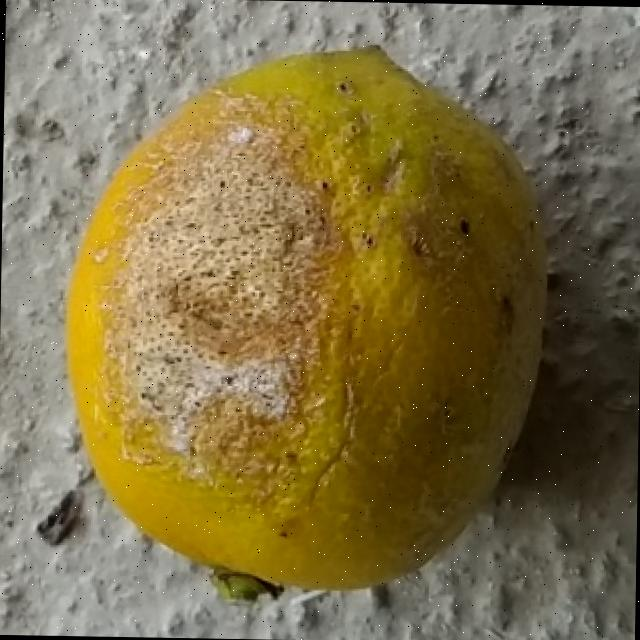overripe: (52, 32, 558, 603)
